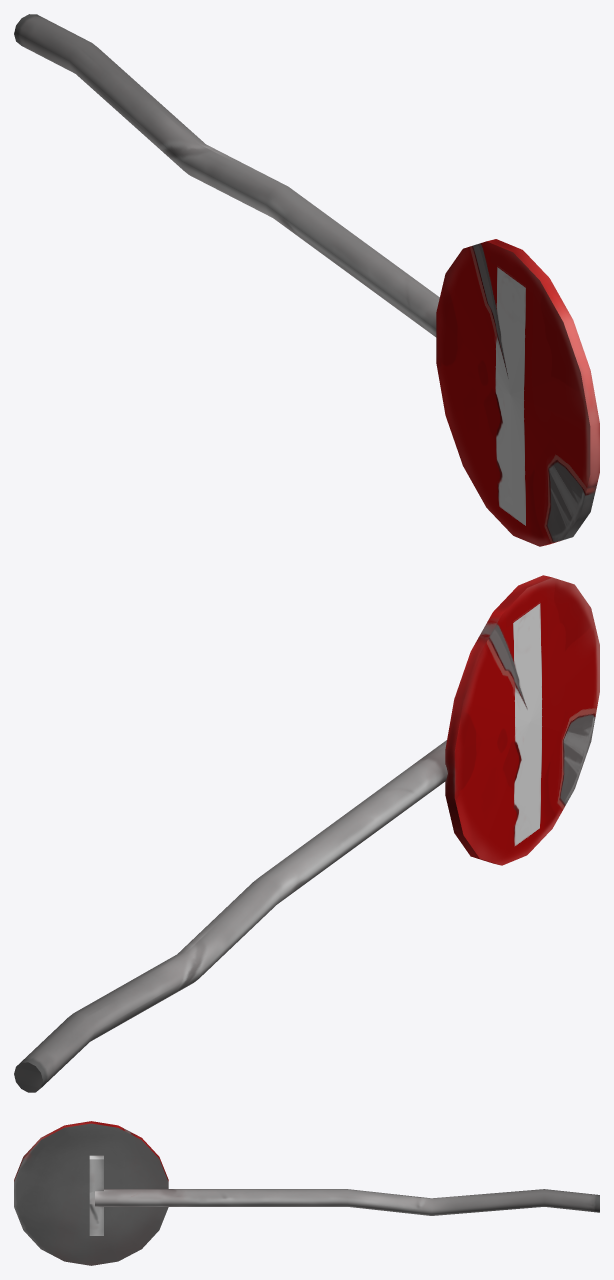
File: W007_0100_Skin.FBX
3 renders of one model, top to bottom at view 1: azimuth 30°, elevation 25°; view 2: azimuth 150°, elevation 25°; view 3: azimuth 270°, elevation 25°, orthographic. The views are drawn at different scales.
Parts seen in each view (by area): view 1: W007_0100; view 2: W007_0100; view 3: W007_0100.
Boxes of the visible parts, x1=… form: W007_0100: x1=14, y1=14, x2=599, y2=546; W007_0100: x1=14, y1=575, x2=599, y2=1092; W007_0100: x1=14, y1=1121, x2=599, y2=1265.
Bounding box in the file's own units: 6.51 × 43.36 × 162.
